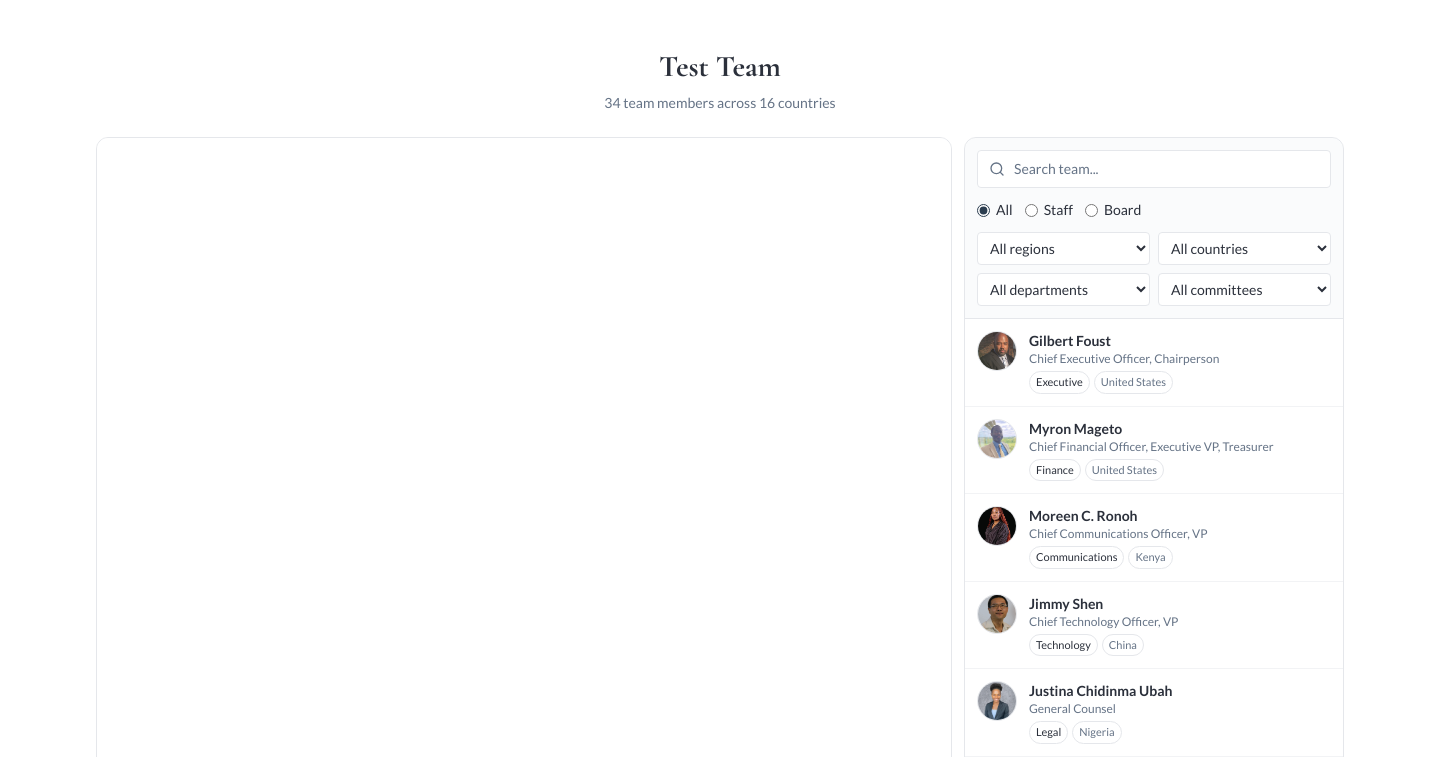
Test case: TeamExplorer › selecting a directory row shows the profile detail panel
The image size is (1440, 757).
Click the button "Gilbert Foust": (1154, 363) [965,319,1343,406]
(page scrolled)
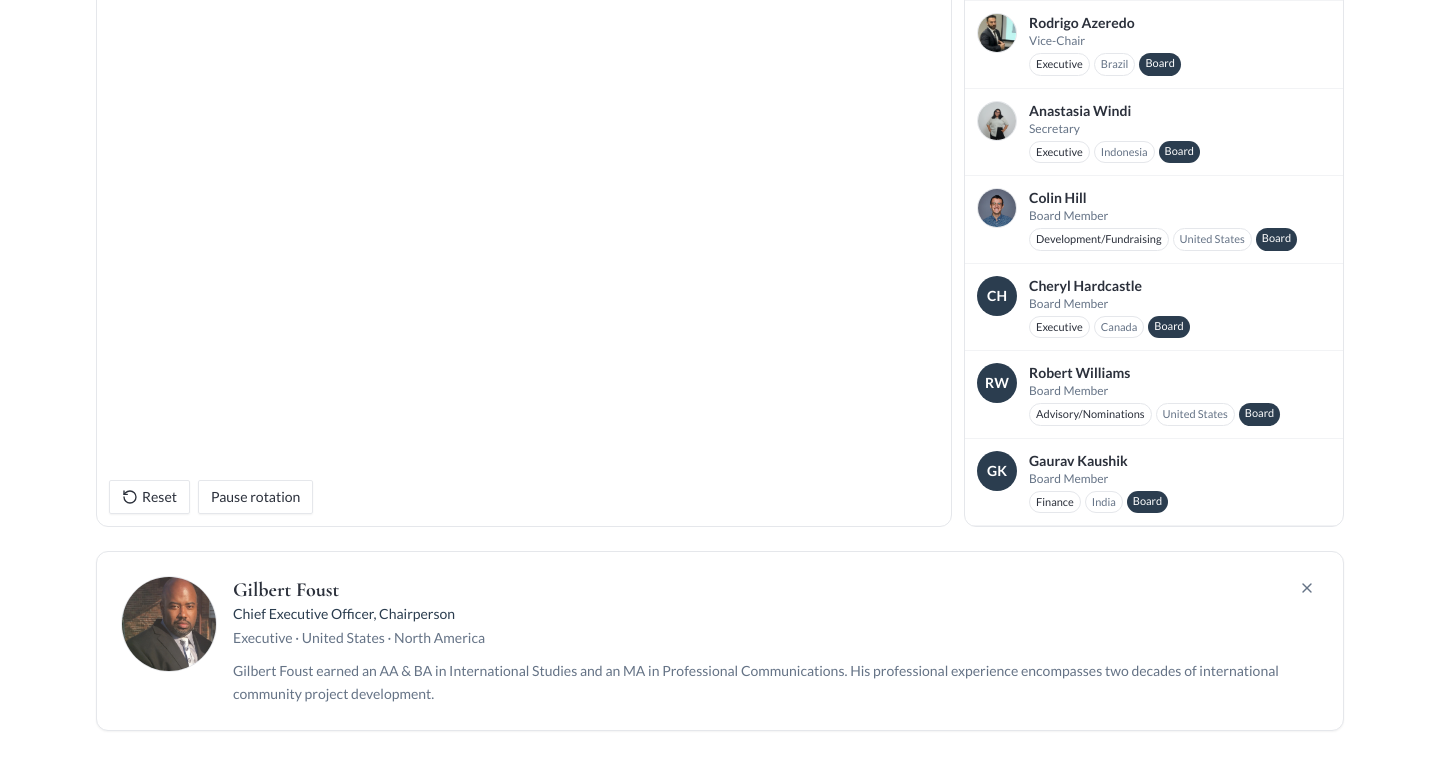
Now the heading "Gilbert Foust" is shown, box [233,578,339,602]
